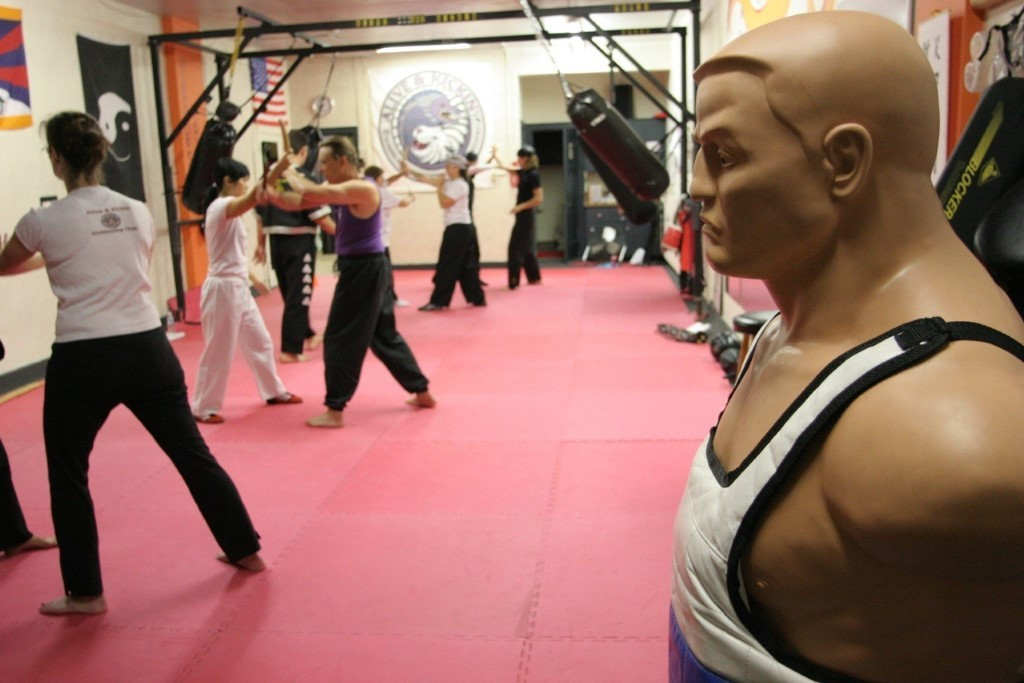baston_e: (278, 121, 292, 154), (262, 157, 268, 188)
baston_v: (275, 117, 284, 125)
